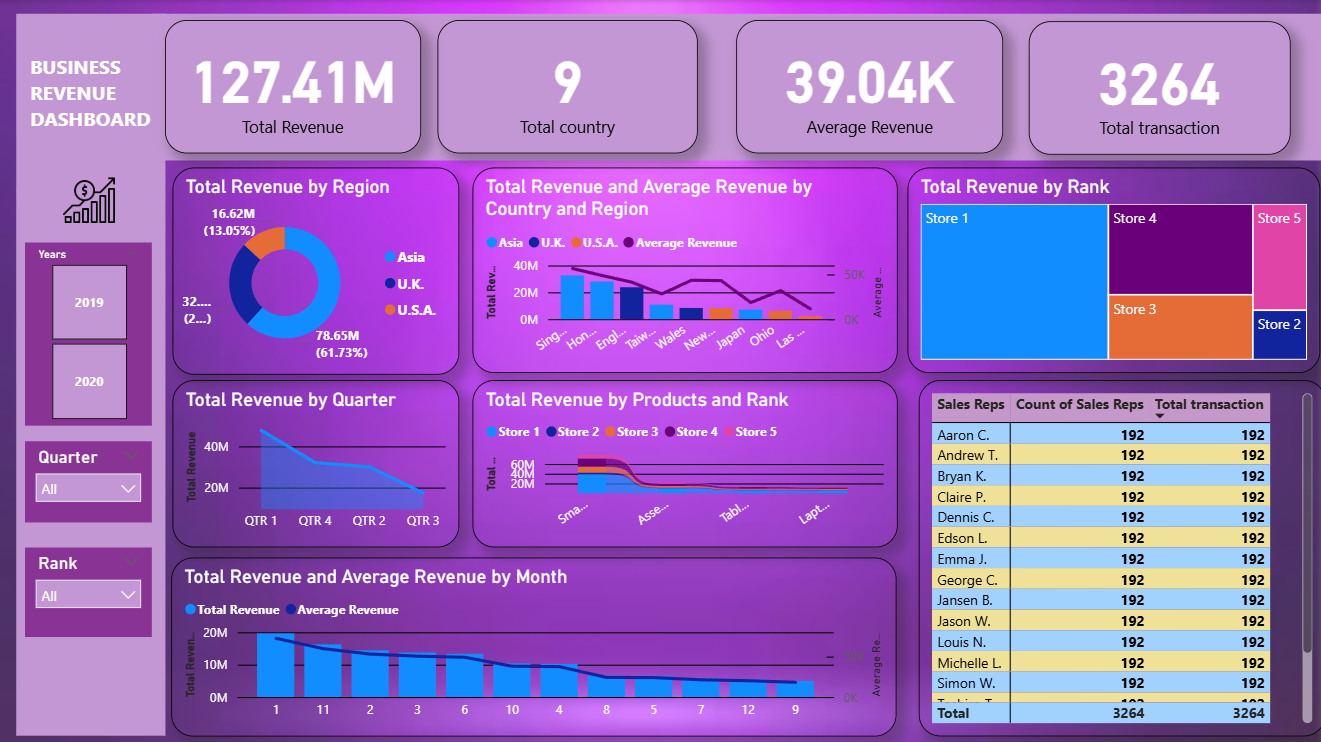

The dashboard page shown, as its layout file describes it:
{"tool":"powerbi","page":{"name":"Page 1","canvas":[1280,720],"ordinal":0},"visuals":[{"type":"shape","box":[15.1,13.7,144.1,697.1],"z":0},{"type":"shape","box":[146.8,13.7,1128,141.3],"z":1000},{"type":"card","fields":{"Values":["measure.Average Revenue"]},"box":[710.8,19.2,258,129],"z":2000},{"type":"card","fields":{"Values":["measure.Total transaction"]},"box":[993.5,20.6,252.5,129],"z":3000},{"type":"card","fields":{"Values":["measure.Total country"]},"box":[422.6,19.2,251.1,129],"z":4000},{"type":"card","fields":{"Values":["measure.Total Revenue"]},"box":[159.2,19.2,247,129],"z":5000},{"type":"donutChart","title":"Total Revenue  by Region","fields":{"Y":["sales data.Revenue (USD)"],"Category":["sales data.Region"]},"box":[166,161.9,277.2,200.3],"z":6000},{"type":"lineStackedColumnComboChart","fields":{"Category":["sales data.Country"],"Series":["sales data.Region"],"Y2":["measure.Average Revenue"],"Y":["measure.Total Revenue"]},"box":[455.7,161.4,410,198.6],"z":7000},{"type":"treemap","fields":{"Values":["measure.Total Revenue"],"Group":["sales data.Rank"]},"box":[875.7,161.4,398.6,198.6],"z":8000},{"type":"areaChart","fields":{"Y":["measure.Total Revenue"],"Category":["sales data.Quarter"]},"box":[166,366.4,277.2,161.9],"z":9000},{"type":"ribbonChart","fields":{"Y":["measure.Total Revenue"],"Category":["sales data.Products"],"Series":["sales data.Rank"]},"box":[455.7,367.1,410,161.4],"z":10000},{"type":"pivotTable","fields":{"Rows":["sales data.Sales Reps"],"Values":["sales data.Sales Reps","measure.Total transaction"]},"box":[887.1,367.1,392.9,344.3],"z":11000},{"type":"lineStackedColumnComboChart","fields":{"Category":["sales data.Month"],"Y":["measure.Total Revenue"],"Y2":["measure.Average Revenue"]},"box":[165.7,538.6,700,172.9],"z":12000},{"type":"slicer","fields":{"Values":["sales data.Years"]},"box":[24.7,234.6,122.1,177],"z":13000},{"type":"slicer","fields":{"Values":["sales data.Quarter"]},"box":[24.7,425.4,122.1,78.2],"z":14000},{"type":"slicer","fields":{"Values":["sales data.Rank"]},"box":[24.7,528.3,122.1,86.4],"z":15000},{"type":"textbox","box":[24.7,46.7,166,101.5],"z":16000},{"type":"image","box":[49.4,161.9,72.7,63.1],"z":17000}]}

Visuals, with their boxes in screenshot pixels (x1, y1, x2, y2), scaled from the page's 1280x720 canvas onto the 1321x742 screenshot:
shape: 16/14/164/733
shape: 152/14/1316/160
card - measure.Average Revenue: 734/20/1000/153
card - measure.Total transaction: 1025/21/1286/154
card - measure.Total country: 436/20/695/153
card - measure.Total Revenue: 164/20/419/153
"Total Revenue  by Region" donutChart: 171/167/457/373
lineStackedColumnComboChart - sales data.Country x sales data.Region: 470/166/893/371
treemap - measure.Total Revenue x sales data.Rank: 904/166/1315/371
areaChart - measure.Total Revenue x sales data.Quarter: 171/378/457/544
ribbonChart - measure.Total Revenue x sales data.Products: 470/378/893/545
pivotTable - sales data.Sales Reps x sales data.Sales Reps: 916/378/1320/733
lineStackedColumnComboChart - sales data.Month x measure.Total Revenue: 171/555/893/733
slicer - sales data.Years: 25/242/152/424
slicer - sales data.Quarter: 25/438/152/519
slicer - sales data.Rank: 25/544/152/633
textbox: 25/48/197/153
image: 51/167/126/232
